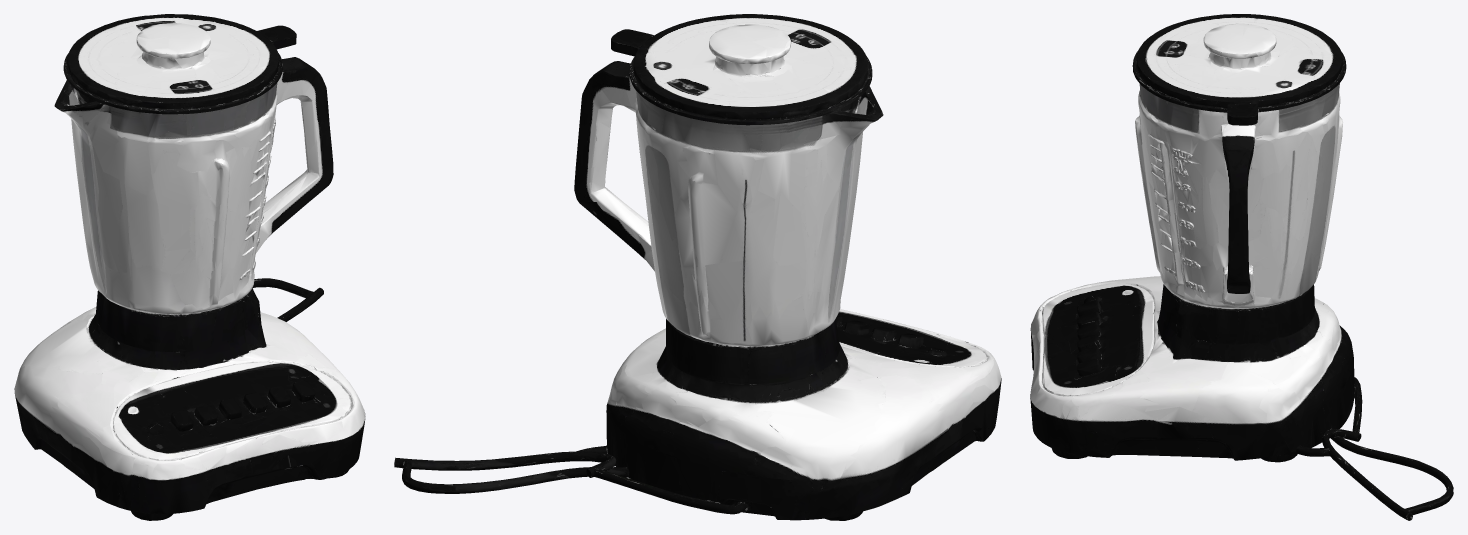
Rendered from kitchen17-blender-02.glb.
The picture shows the model from 3 angles, left to right: view 1: azimuth 30°, elevation 25°; view 2: azimuth 150°, elevation 25°; view 3: azimuth 270°, elevation 25°; orthographic projection. The views are drawn at different scales.
Size of the model in its own units: 1.9 by 1.84 by 1.85.
1 material, 1 textured.
